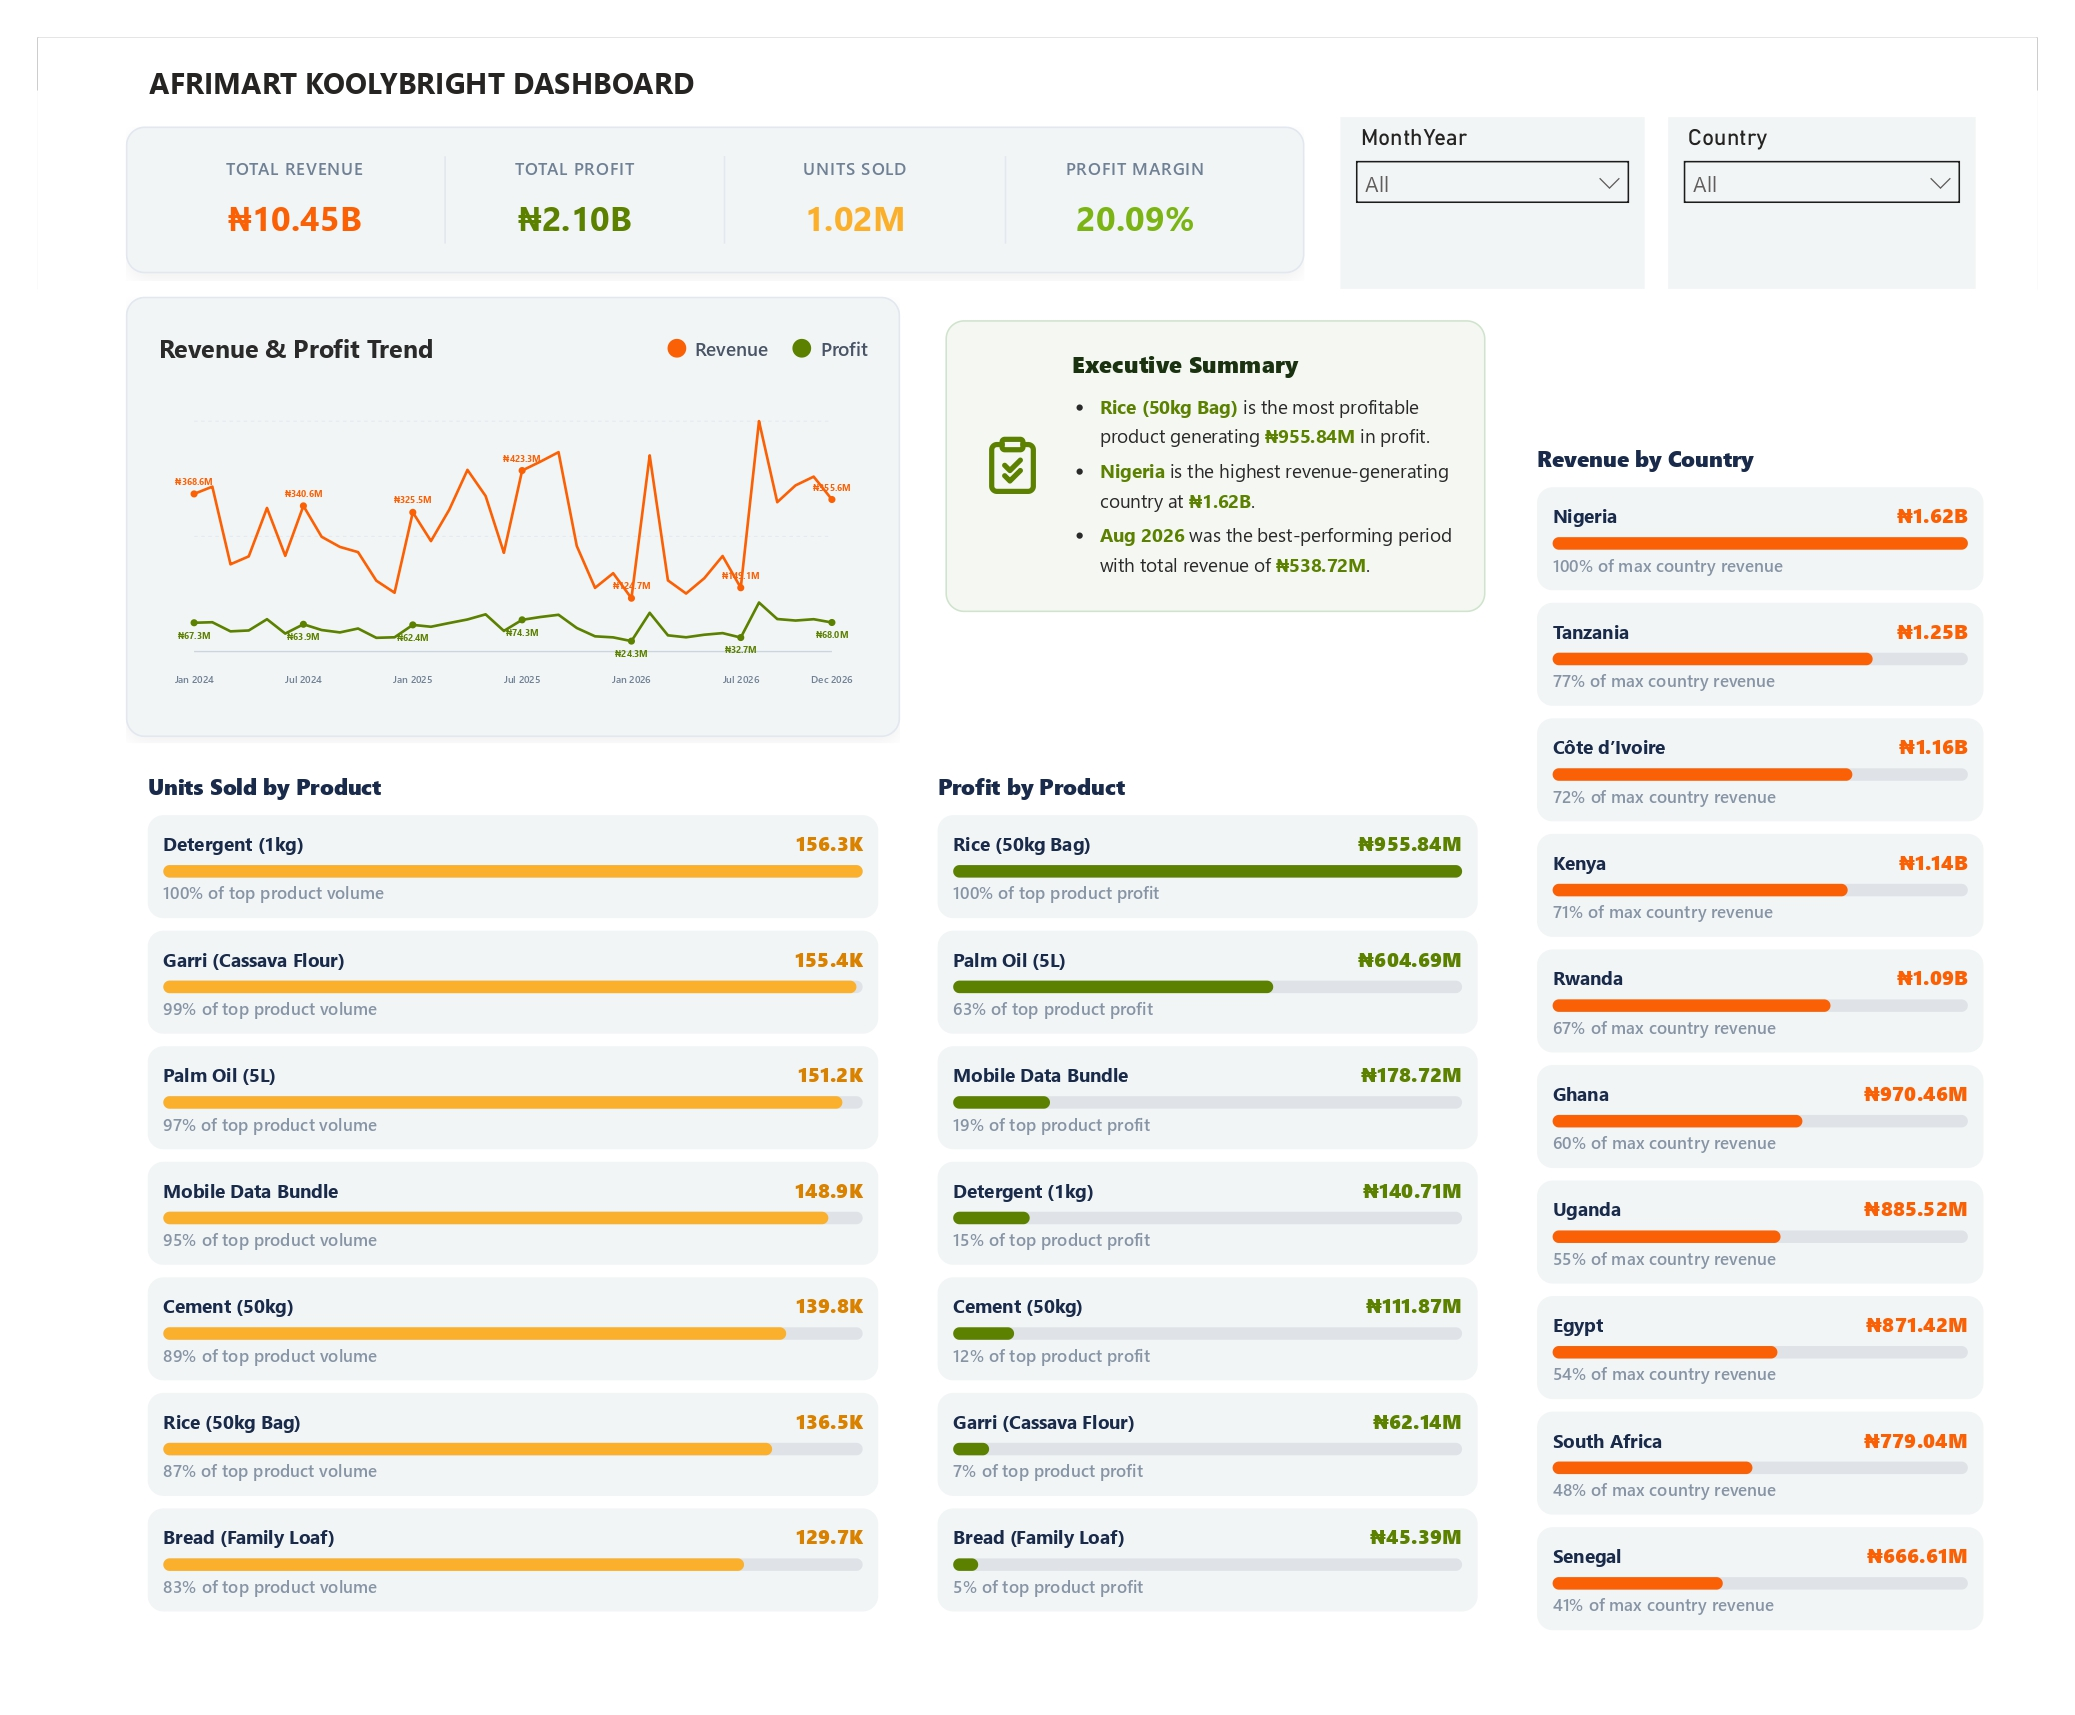

What the dashboard file says about the page in this screenshot:
{"tool":"powerbi","page":{"name":"Page 1","canvas":[1280,1050],"ordinal":0},"visuals":[{"type":"htmlContent443BE3AD55E043BF878BED274D3A6855","fields":{"content":["_measures.Row KPI Card HTML"]},"box":[50.8,52.3,764.8,109],"z":0},{"type":"htmlContent443BE3AD55E043BF878BED274D3A6855","fields":{"content":["_measures.Line Chart HTML"]},"box":[51,161.2,506.1,295.9],"z":1},{"type":"htmlContent443BE3AD55E043BF878BED274D3A6855","fields":{"content":["_measures.Revenue by Country Visual"]},"box":[940.7,246.4,323.6,803.6],"z":2},{"type":"htmlContent443BE3AD55E043BF878BED274D3A6855","fields":{"content":["_measures.Profit by Product Visual"]},"box":[557.1,456.4,383.6,574.3],"z":3},{"type":"htmlContent443BE3AD55E043BF878BED274D3A6855","fields":{"content":["_measures.Units Sold by Product Visual"]},"box":[51.4,456.4,505.7,574.3],"z":4},{"type":"slicer","fields":{"Values":["CalendarDate.MonthYear"]},"box":[833.6,51.4,195,109.3],"z":5},{"type":"slicer","fields":{"Values":["Afrimart.Country"]},"box":[1043.6,51.4,197.1,109.3],"z":6},{"type":"htmlContent443BE3AD55E043BF878BED274D3A6855","fields":{"content":["_measures.Management Summary HTML"]},"box":[576.4,175.7,355.7,280.7],"z":7},{"type":"textbox","box":[66.4,10.7,657.9,40.7],"z":8}]}

Visuals, with their boxes on the page's 1280x1050 design canvas (x1, y1, x2, y2). These are canvas units, not pixel positions in the 2075x1715 screenshot, which may show the page scaled, cropped or inside an application window:
htmlContent443BE3AD55E043BF878BED274D3A6855 - _measures.Row KPI Card HTML: 51/52/816/161
htmlContent443BE3AD55E043BF878BED274D3A6855 - _measures.Line Chart HTML: 51/161/557/457
htmlContent443BE3AD55E043BF878BED274D3A6855 - _measures.Revenue by Country Visual: 941/246/1264/1050
htmlContent443BE3AD55E043BF878BED274D3A6855 - _measures.Profit by Product Visual: 557/456/941/1031
htmlContent443BE3AD55E043BF878BED274D3A6855 - _measures.Units Sold by Product Visual: 51/456/557/1031
slicer - CalendarDate.MonthYear: 834/51/1029/161
slicer - Afrimart.Country: 1044/51/1241/161
htmlContent443BE3AD55E043BF878BED274D3A6855 - _measures.Management Summary HTML: 576/176/932/456
textbox: 66/11/724/51
